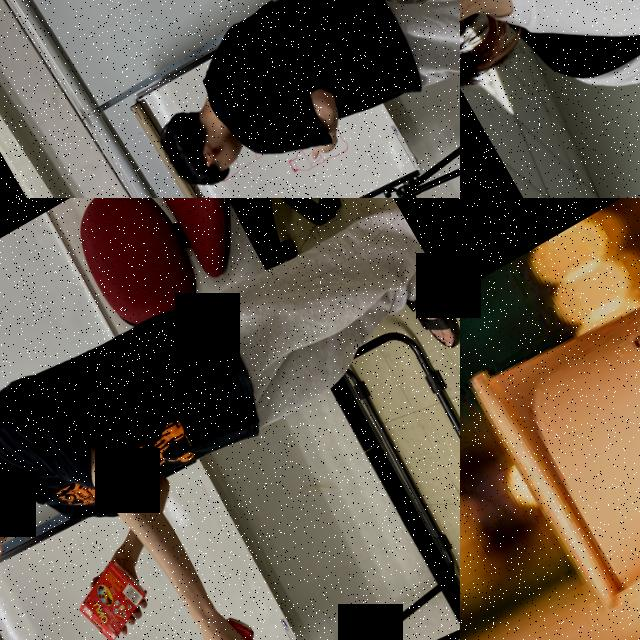can: (182, 607, 288, 640)
cup: (465, 198, 640, 620)
